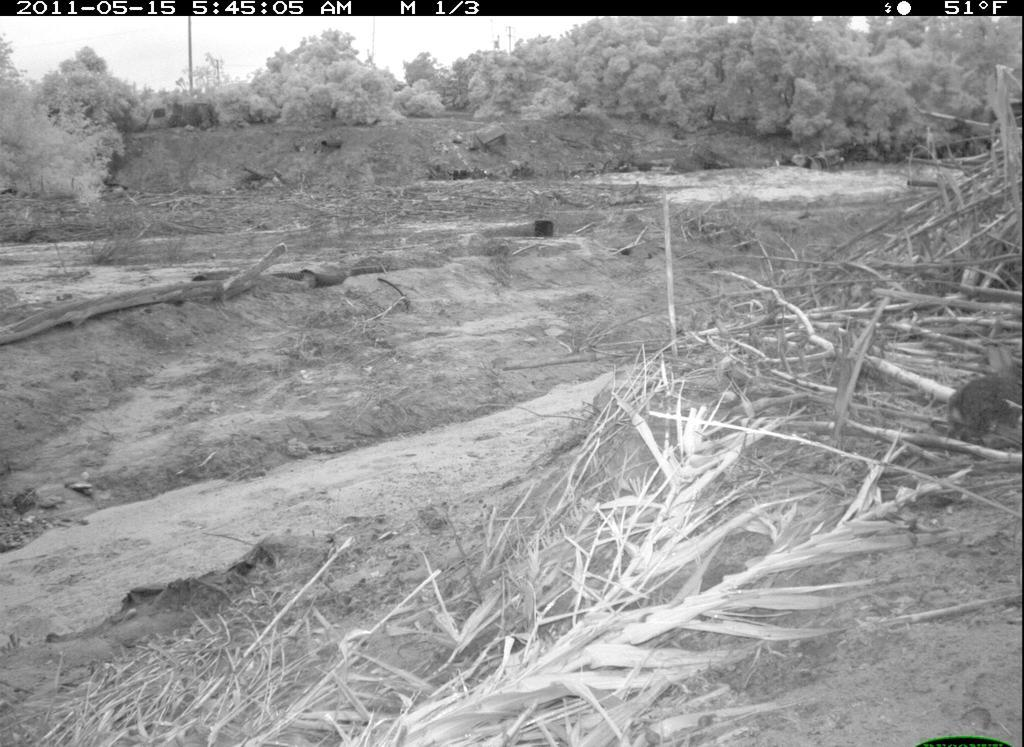rabbit: (940, 345, 1023, 455)
